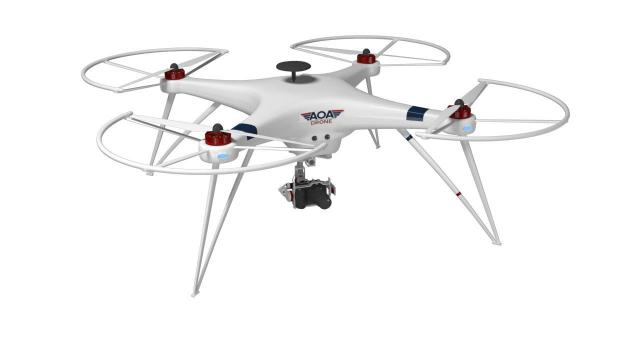drone: (79, 33, 572, 299)
